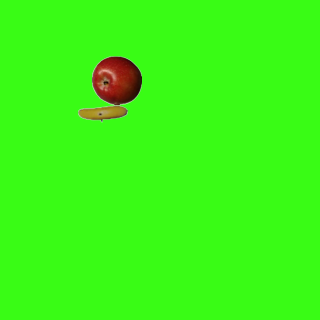Apple Braeburn: (91, 55, 141, 105)
Banana: (77, 88, 127, 138)
